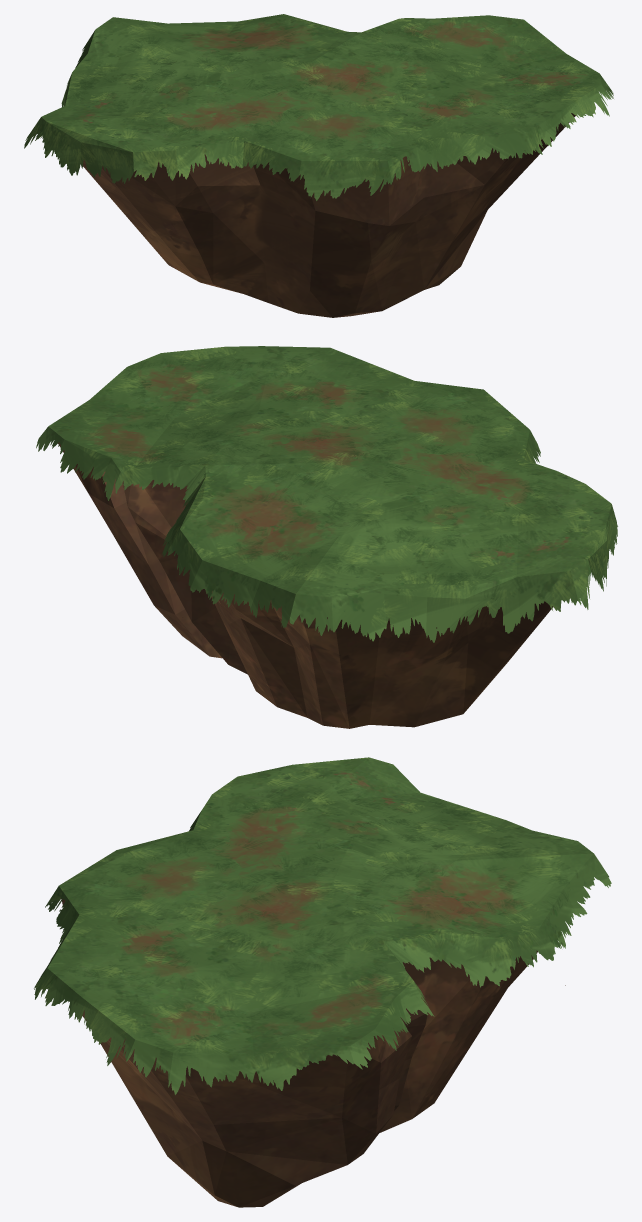
The model's file is IslandMain.fbx.
The picture shows the model from 3 angles, top to bottom: view 1: azimuth 30°, elevation 25°; view 2: azimuth 150°, elevation 25°; view 3: azimuth 270°, elevation 25°; orthographic projection. The views are drawn at different scales.
Parts seen in each view (by area): view 1: polySurface2, polySurface3; view 2: polySurface2, polySurface3; view 3: polySurface2, polySurface3.
Part boxes in pixels (x1=…): polySurface2: x1=24, y1=14, x2=613, y2=200; polySurface3: x1=83, y1=113, x2=575, y2=317; polySurface2: x1=36, y1=346, x2=617, y2=642; polySurface3: x1=58, y1=442, x2=552, y2=728; polySurface2: x1=34, y1=757, x2=611, y2=1094; polySurface3: x1=61, y1=898, x2=537, y2=1207.
Bounding box in the file's own units: 13.78 × 5.7 × 11.61.
